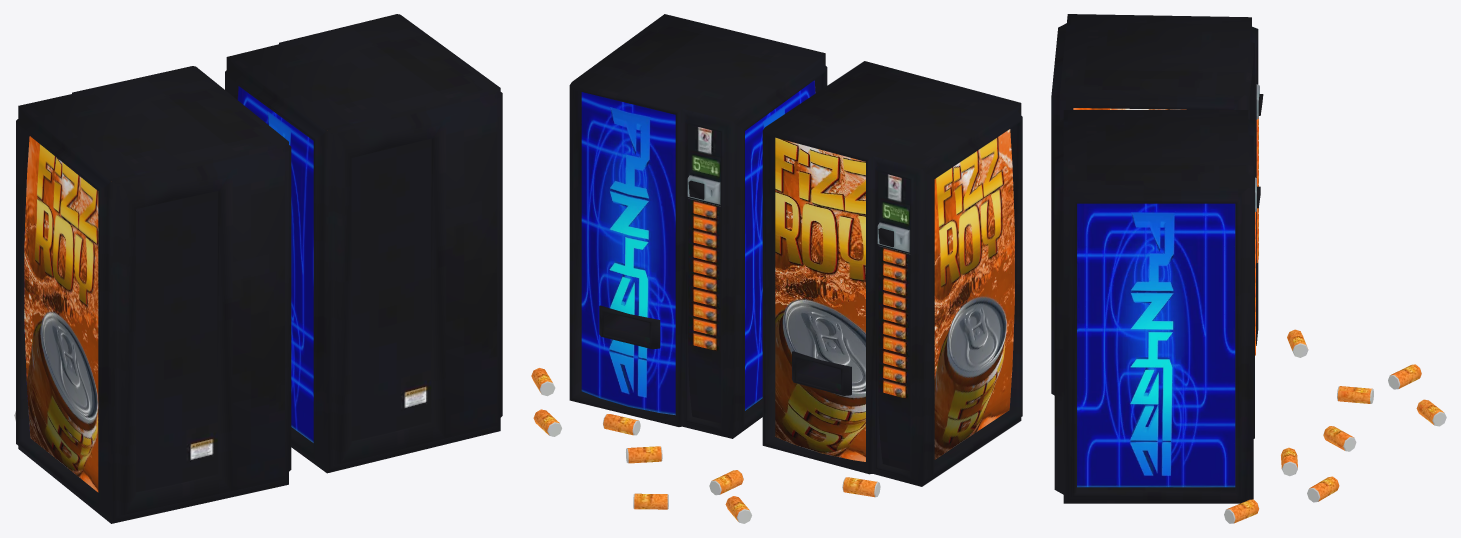
File: soda.glb
3 renders of one model, left to right at view 1: azimuth 30°, elevation 25°; view 2: azimuth 150°, elevation 25°; view 3: azimuth 270°, elevation 25°, orthographic. The views are drawn at different scales.
Visible parts, largest first — view 1: SodaMachine_FizzRoy, SodaMachine_Fynyss; view 2: SodaMachine_FizzRoy, SodaMachine_Fynyss, SodaCan_FizzRoy001, SodaCan_Fynyss004, SodaCan_Fynyss003, SodaCan_FizzRoy002; view 3: SodaMachine_Fynyss, SodaMachine_FizzRoy, SodaCan_FizzRoy, SodaCan_Fynyss, SodaCan_Fynyss002, SodaCan_Fynyss003, SodaCan_Fynyss001, SodaCan_FizzRoy002.
Boxes of the visible parts, x1,y1,x2,y2 form: SodaMachine_FizzRoy: [16, 66, 291, 523]; SodaMachine_Fynyss: [225, 14, 502, 473]; SodaMachine_FizzRoy: [762, 61, 1022, 486]; SodaMachine_Fynyss: [569, 14, 827, 438]; SodaCan_FizzRoy001: [842, 477, 880, 497]; SodaCan_Fynyss004: [603, 414, 640, 435]; SodaCan_Fynyss003: [626, 446, 662, 463]; SodaCan_FizzRoy002: [633, 493, 668, 509]; SodaMachine_Fynyss: [1054, 110, 1260, 503]; SodaMachine_FizzRoy: [1051, 14, 1263, 395]; SodaCan_FizzRoy: [1337, 386, 1373, 403]; SodaCan_Fynyss: [1224, 499, 1259, 523]; SodaCan_Fynyss002: [1388, 364, 1421, 389]; SodaCan_Fynyss003: [1323, 426, 1356, 451]; SodaCan_Fynyss001: [1307, 476, 1339, 502]; SodaCan_FizzRoy002: [1416, 399, 1446, 426].
Bounding box in the file's own units: 2.58 × 1.9 × 2.16.
Materials: 2 (2 with a texture image).
